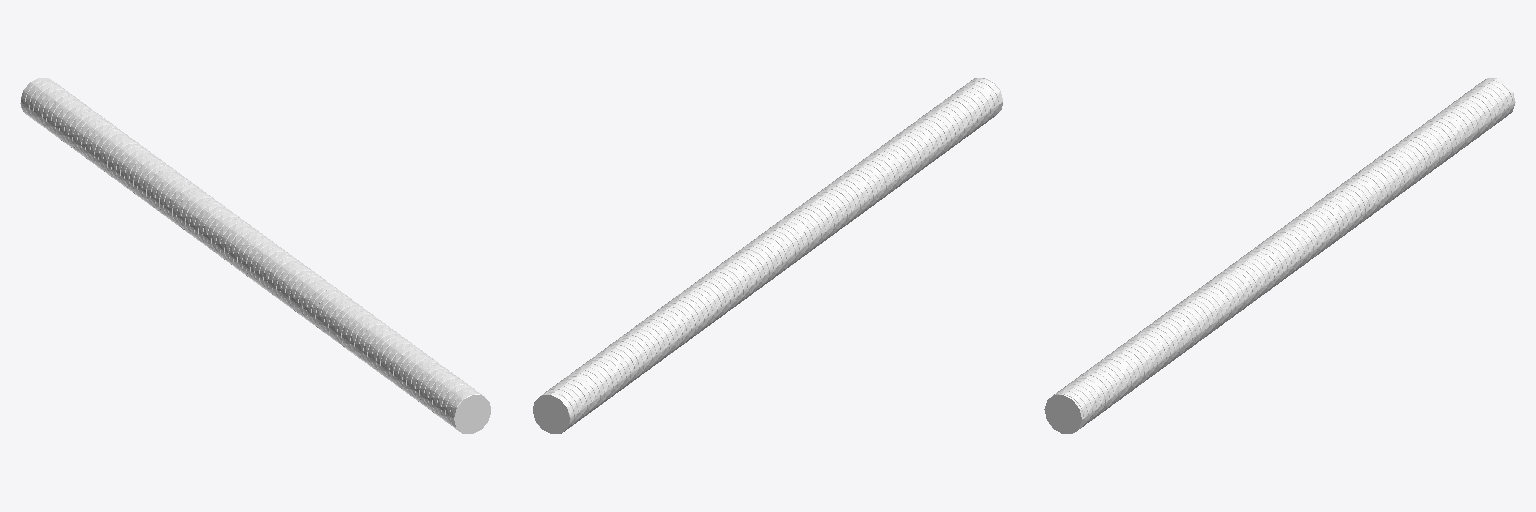
URDF robot description (solidworks2ros_try2):
<?xml version="1.0" encoding="utf-8"?>
<!-- This URDF was automatically created by SolidWorks to URDF Exporter! Originally created by [author] ([email redacted]) 
     Commit Version: 1.6.0-4-g7f85cfe  Build Version: 1.6.7995.38578
     For more information, please see http://wiki.ros.org/sw_urdf_exporter -->
<robot
  name="solidworks2ros_try2">

  <link name="base_link">
    <inertial>
      <origin
        xyz="4.4409E-16 -1.1102E-15 -0.13251"
        rpy="0 0 0" />
      <mass
        value="939.86" />
      <inertia
        ixx="2643.5"
        ixy="-1.9222E-13"
        ixz="5.0426E-17"
        iyy="230.15"
        iyz="7.9927E-14"
        izz="2821.5" />
    </inertial>
    <visual>
      <origin
        xyz="0 0 0"
        rpy="0 0 0" />
      <geometry>
        <mesh
          filename="package://solidworks2ros_try2/meshes/base_link.STL" />
      </geometry>
      <material
        name="">
        <color
          rgba="1 0.72157 0.32941 1" />
      </material>
    </visual>
    <collision>
      <origin
        xyz="0 0 0"
        rpy="0 0 0" />
      <geometry>
        <mesh
          filename="package://solidworks2ros_try2/meshes/base_link.STL" />
      </geometry>
    </collision>
  </link>

  <link name="link_1">
    <inertial>
      <origin
        xyz="-5.6306E-06 -1.0549E-05 3.0742E-06"
        rpy="0 0 0" />
      <mass
        value="256.44" />
      <inertia
        ixx="552.52"
        ixy="-0.00036625"
        ixz="0.00023454"
        iyy="2.0606"
        iyz="-0.00085461"
        izz="552.52" />
    </inertial>
    <visual>
      <origin
        xyz="0 0 0"
        rpy="0 0 0" />
      <geometry>
        <mesh
          filename="package://solidworks2ros_try2/meshes/link_1.STL" />
      </geometry>
      <material
        name="">
        <color
          rgba="1 1 1 1" />
      </material>
    </visual>
    <collision>
      <origin
        xyz="0 0 0"
        rpy="0 0 0" />
      <geometry>
        <mesh
          filename="package://solidworks2ros_try2/meshes/link_1.STL" />
      </geometry>
    </collision>
  </link>

  <joint name="joint_1"
    type="revolute">
    <origin
      xyz="0 0 0"
      rpy="0 0 0" />
    <parent
      link="base_link" />
    <child
      link="link_1" />
    <axis
      xyz="0 1 0" />
    <limit
      lower="0"
      upper="0"
      effort="0"
      velocity="0" />
  </joint>

<!-- Position Contoller -->
<transmission name ="trans_1">
    <type>transmission_interface/SimpleTransmission</type>
    <joint name="joint_1">
        <hardwareInterface>hardware_interface/PositionJointInterface</hardwareInterface>
    </joint>
    <actuator name="motor_1">
        <hardwareInterface>hardware_interface/PositionJointInterface</hardwareInterface>
        <mechanicalReduction>1</mechanicalReduction>
    </actuator>
</transmission>

<!-- Gazebo controller -->
<gazebo>
    <plugin name="control" filename="libgazebo_ros_control.so"/>
</gazebo>
  
<!-- Gazebo visual interface for the links-->
<gazebo reference="base_link">
    <material>Gazebo/Orange</material>
</gazebo>
<gazebo reference="link_1">
    <material>Gazebo/White</material>
</gazebo>


</robot>

--- Render facts (derived) ---
3 views of the same robot in one strip: view 1: azimuth 30°, elevation 25°; view 2: azimuth 150°, elevation 25°; view 3: azimuth 330°, elevation 25° (orthographic).
Model solidworks2ros_try2 with 2 links and 1 joints (1 revolute), rooted at base_link, posed every joint at zero.
Links seen in each view (by area): view 1: link_1; view 2: link_1; view 3: link_1.
Boxes of the visible links, box(x1,y1,x2,y2) form: link_1: box(20, 78, 490, 433); link_1: box(533, 78, 1002, 433); link_1: box(1044, 78, 1515, 433).
Size in the robot's own frame: 0.254 by 5.08 by 0.254 metres.
Meshes: 2 distinct files referenced, 1 mesh visuals loaded (1 binary STL); not drawn: 1 (reference not matched to a file when rendering).
